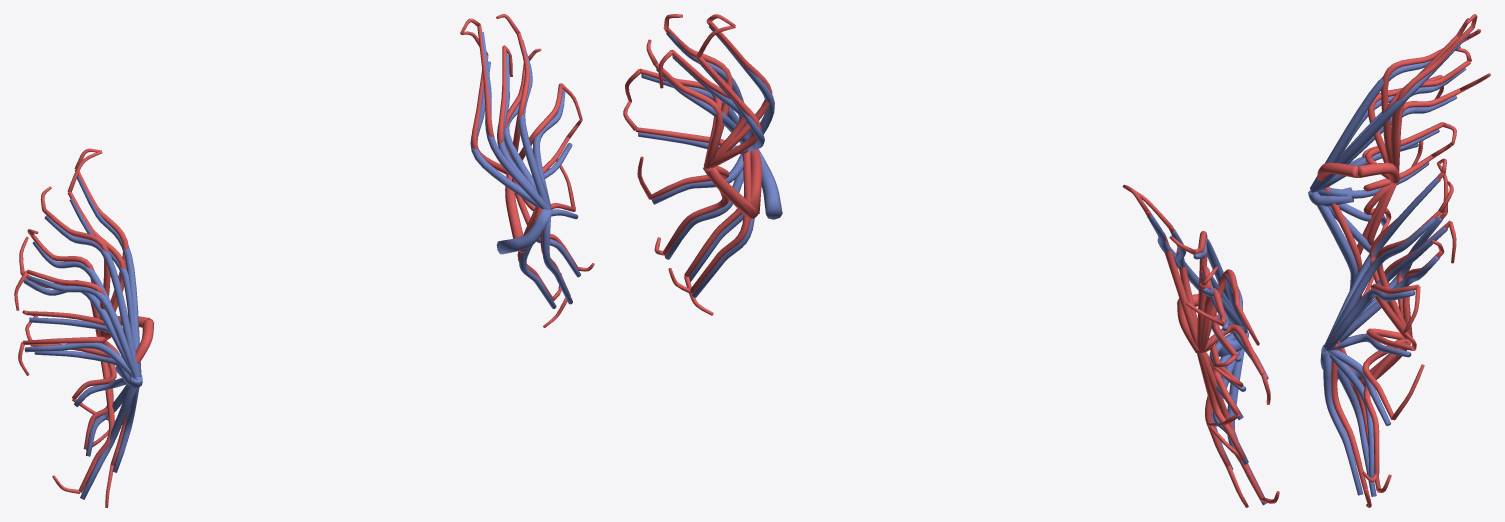
The model's file is anatomyverse-renal-vessels.glb.
3 views of the same model, side by side, from view 1: azimuth 30°, elevation 25°; view 2: azimuth 150°, elevation 25°; view 3: azimuth 270°, elevation 25° (orthographic). The views are drawn at different scales.
Visible parts, largest first — view 1: gv_intrarenal_vein_r, gv_intrarenal_vein_l, gv_intrarenal_art_r, gv_intrarenal_art_l; view 2: gv_intrarenal_art_l, gv_intrarenal_art_r, gv_intrarenal_vein_l, gv_intrarenal_vein_r, gv_segart_post_l; view 3: gv_intrarenal_vein_l, gv_intrarenal_art_r, gv_intrarenal_art_l, gv_intrarenal_vein_r, gv_segart_post_r, gv_segart_ant_r, gv_segart_post_l.
Part boxes in pixels (left/top/right/bottom): gv_intrarenal_vein_r: left=23, top=176, right=142, bottom=499; gv_intrarenal_vein_l: left=470, top=32, right=581, bottom=308; gv_intrarenal_art_r: left=14, top=148, right=128, bottom=507; gv_intrarenal_art_l: left=460, top=14, right=594, bottom=327; gv_intrarenal_art_l: left=623, top=14, right=772, bottom=315; gv_intrarenal_art_r: left=1122, top=184, right=1279, bottom=507; gv_intrarenal_vein_l: left=638, top=25, right=782, bottom=297; gv_intrarenal_vein_r: left=1147, top=214, right=1268, bottom=505; gv_segart_post_l: left=703, top=167, right=758, bottom=219; gv_intrarenal_vein_l: left=1320, top=177, right=1447, bottom=496; gv_intrarenal_art_r: left=1324, top=14, right=1490, bottom=301; gv_intrarenal_art_l: left=1331, top=158, right=1456, bottom=507; gv_intrarenal_vein_r: left=1308, top=34, right=1469, bottom=290; gv_segart_post_r: left=1358, top=162, right=1399, bottom=183; gv_segart_ant_r: left=1317, top=162, right=1357, bottom=181; gv_segart_post_l: left=1354, top=339, right=1411, bottom=394.
Bounding box in the file's own units: 0.1774 × 0.1083 × 0.0453.
